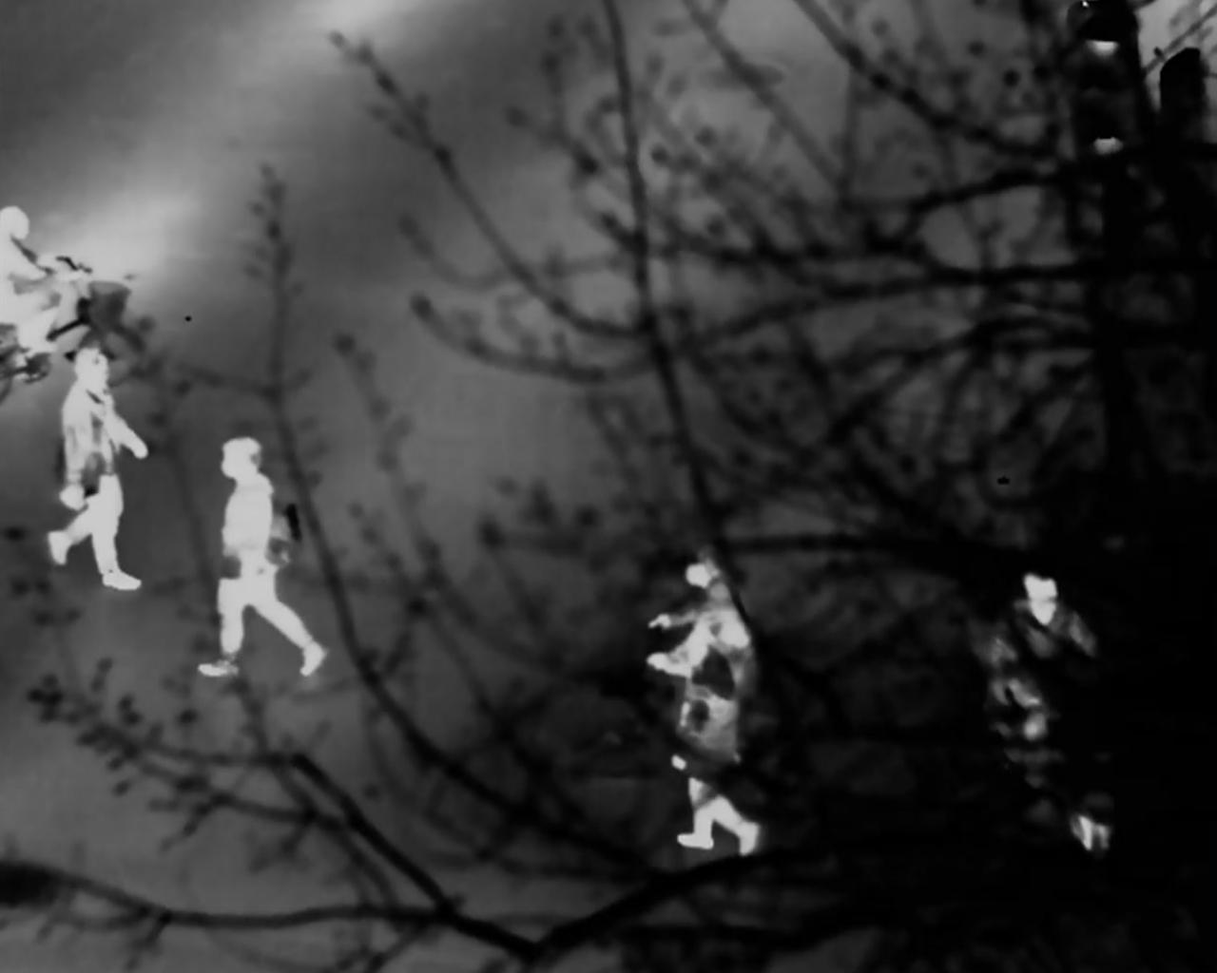person: (216, 438, 321, 681), (47, 341, 144, 595), (663, 620, 761, 855), (998, 565, 1096, 795), (658, 557, 762, 770)
